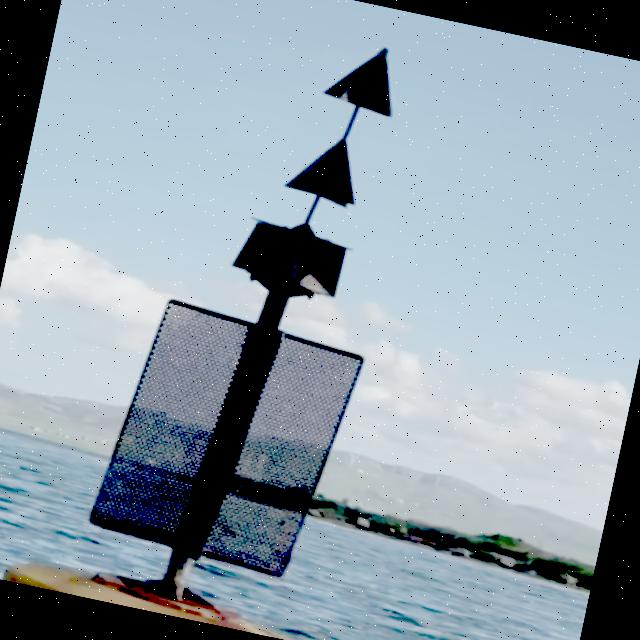marque: (1, 1, 454, 640)
